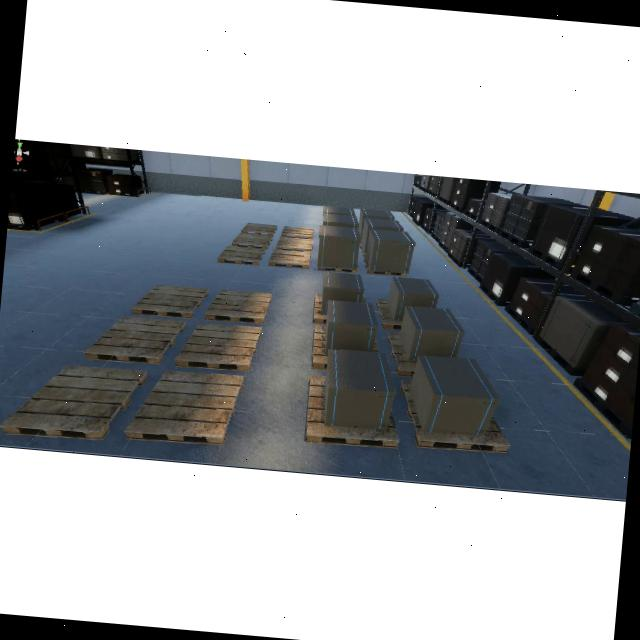wooden_pallet: (0, 365, 148, 439), (124, 369, 244, 445), (399, 380, 509, 454), (305, 376, 398, 449), (84, 315, 186, 365), (174, 323, 261, 372), (130, 284, 209, 317), (205, 289, 271, 323), (386, 332, 416, 378), (216, 244, 265, 265), (267, 248, 311, 269), (375, 298, 402, 330), (311, 326, 327, 371), (231, 233, 272, 249), (240, 222, 277, 236), (275, 236, 312, 250), (280, 225, 313, 239), (312, 293, 326, 323), (317, 263, 358, 273)
